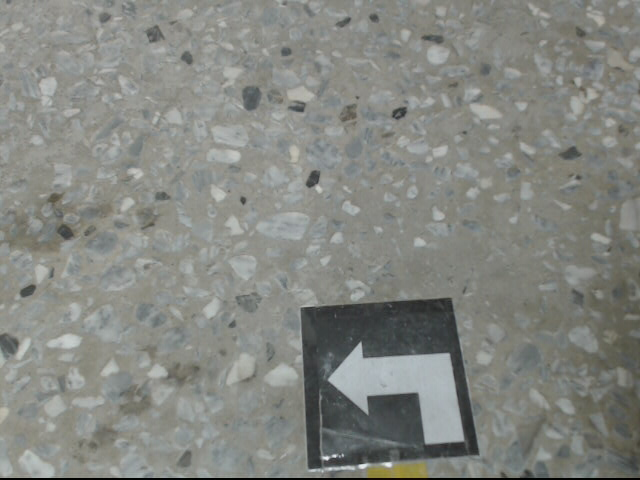left: (299, 299, 480, 467)
